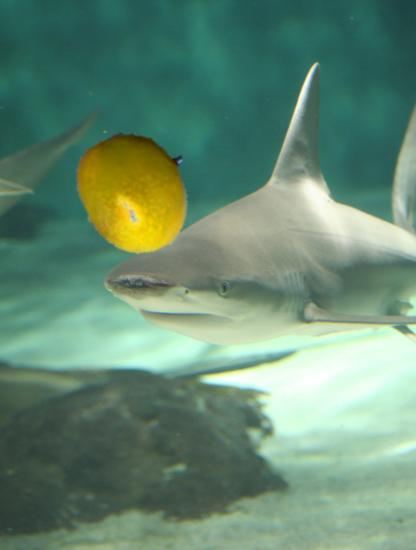Maracuja: (71, 124, 202, 255)
